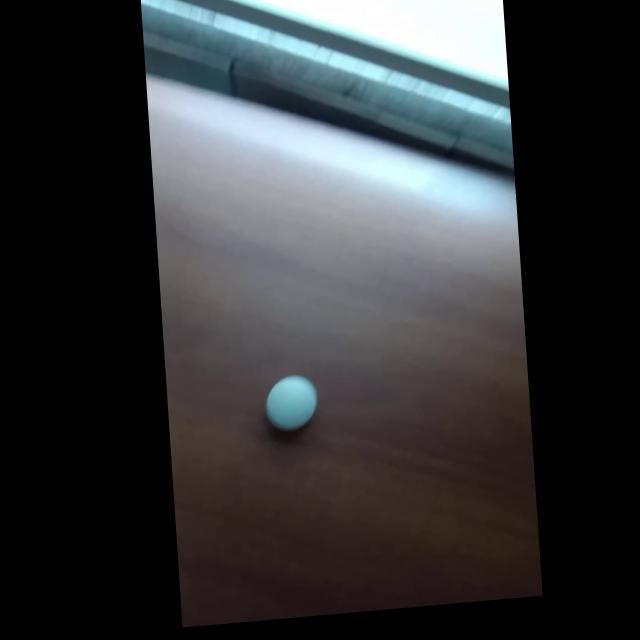white ball: (264, 373, 319, 434)
